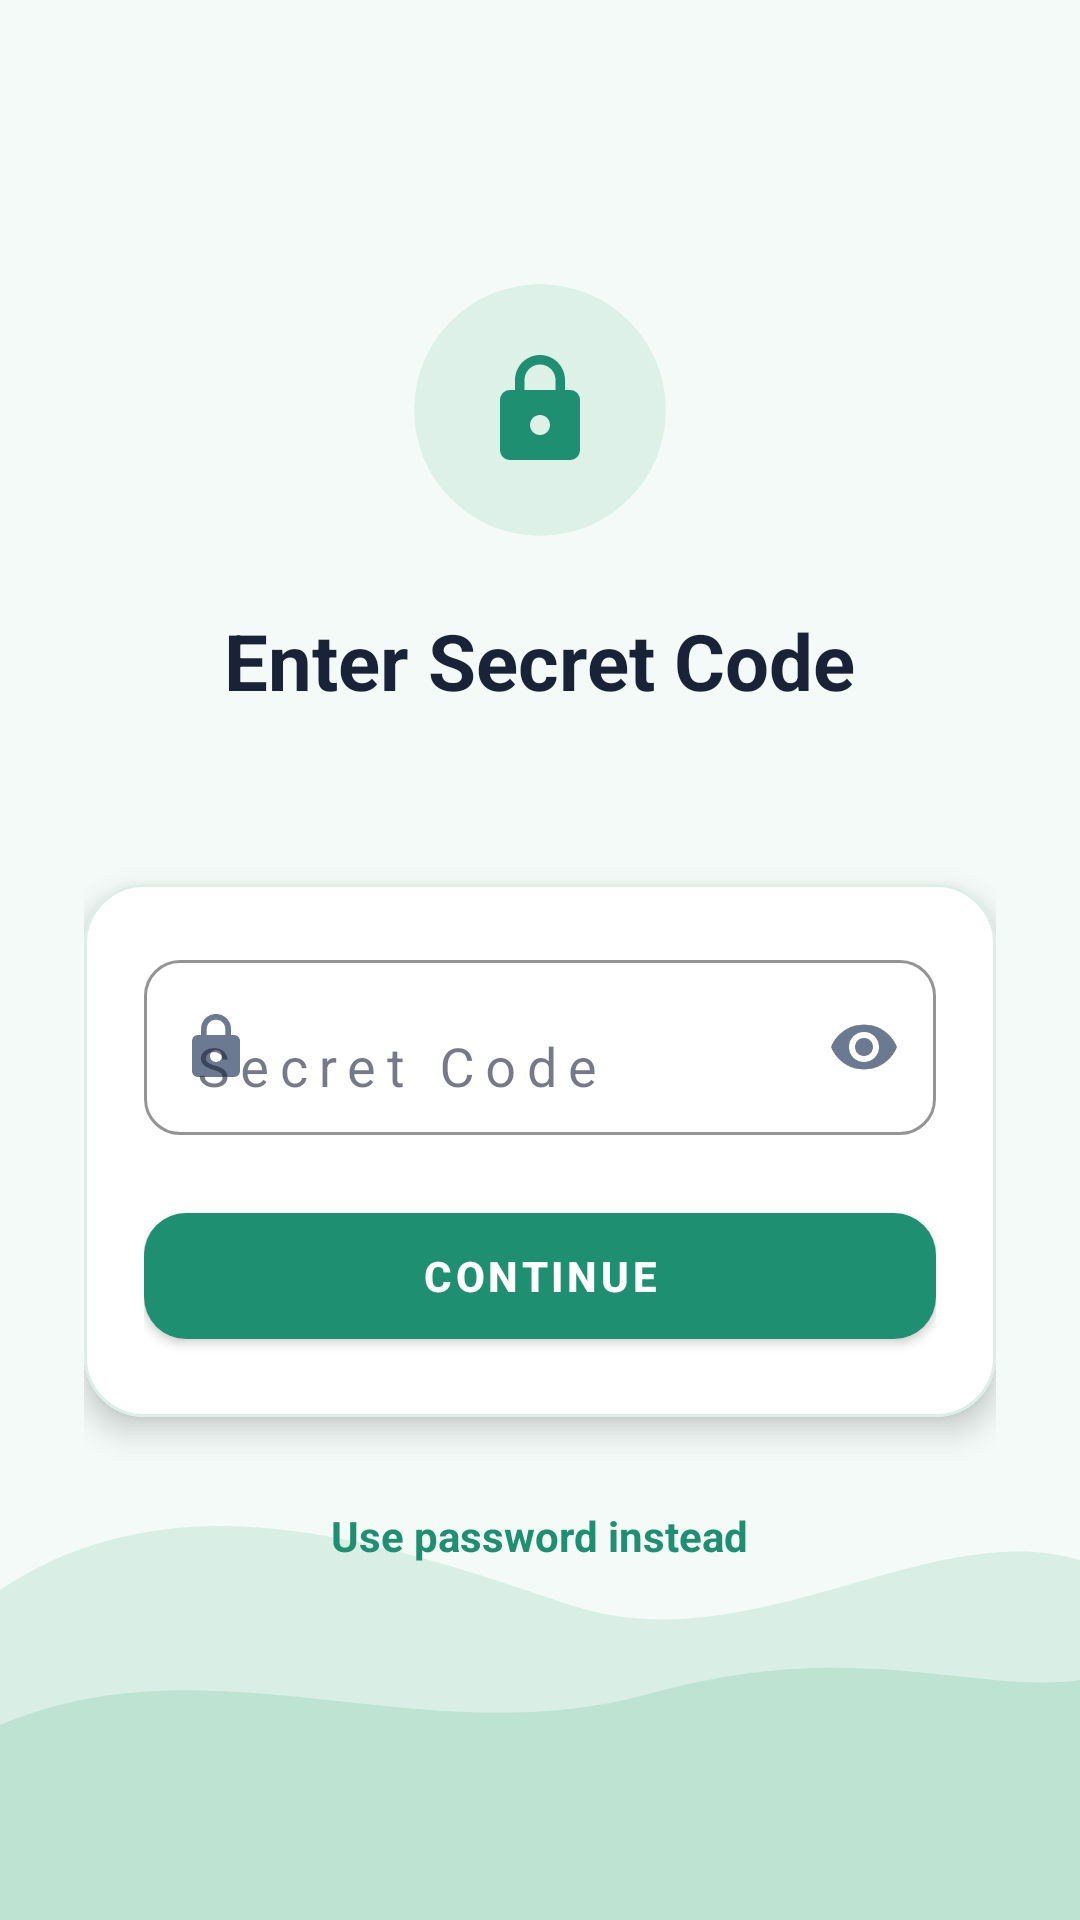

Icon click points for this 1080×1920 phone screenshot, format point (x, y):
lock: point (540, 407)
